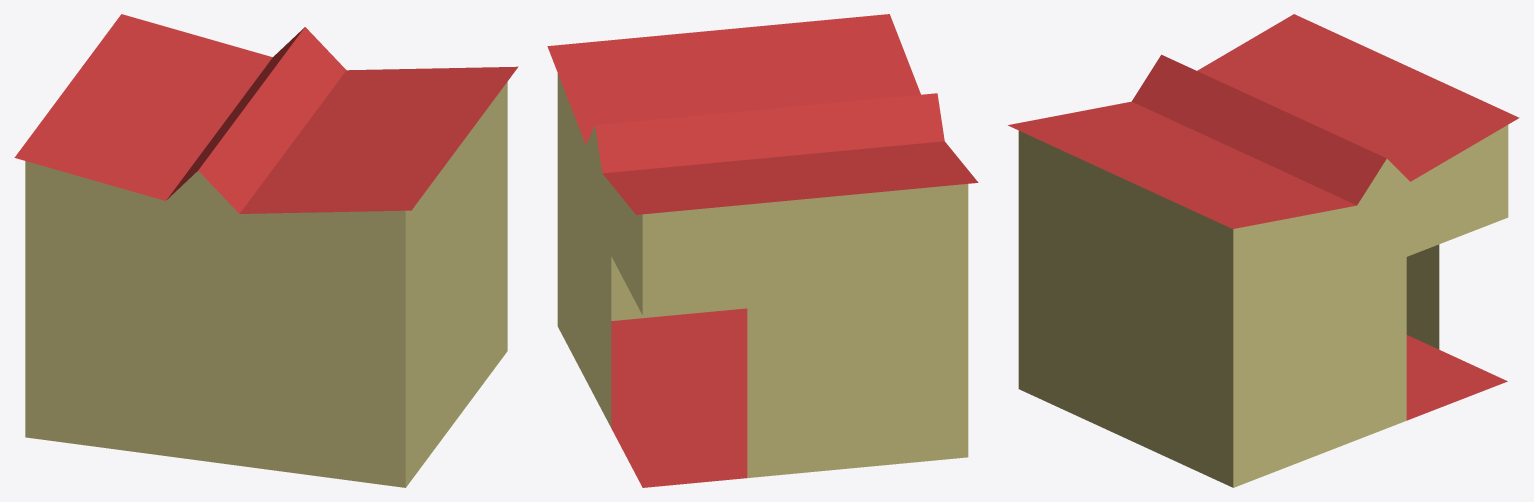
3 renders of one model, left to right at view 1: azimuth 30°, elevation 25°; view 2: azimuth 150°, elevation 25°; view 3: azimuth 270°, elevation 25°, orthographic. The views are drawn at different scales.
Size of the model in its own units: 15.58 by 15.68 by 9.27.
